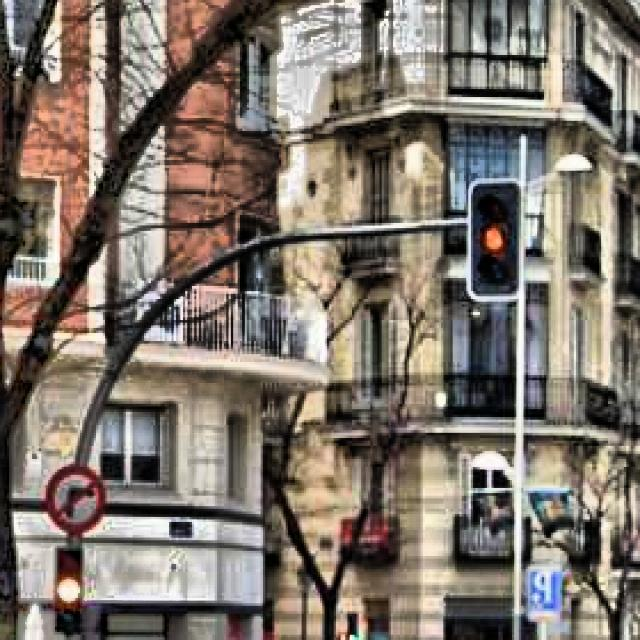yellow: (474, 183, 518, 300), (57, 546, 83, 631)
